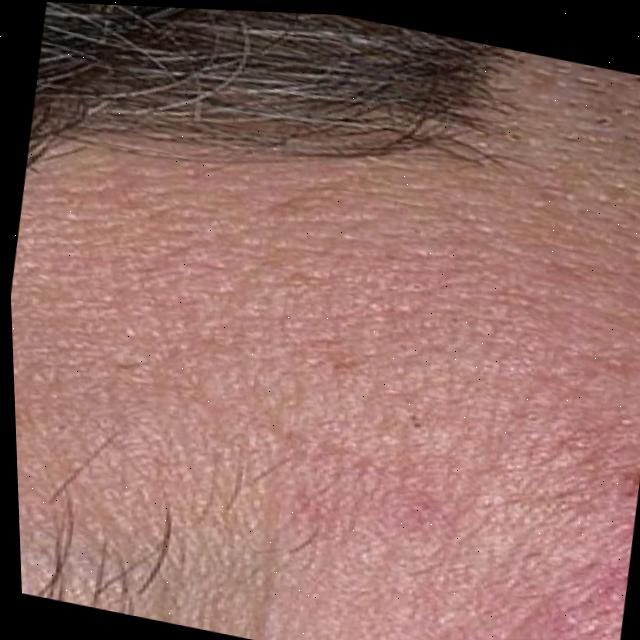Rosacea: (524, 623, 621, 640)
